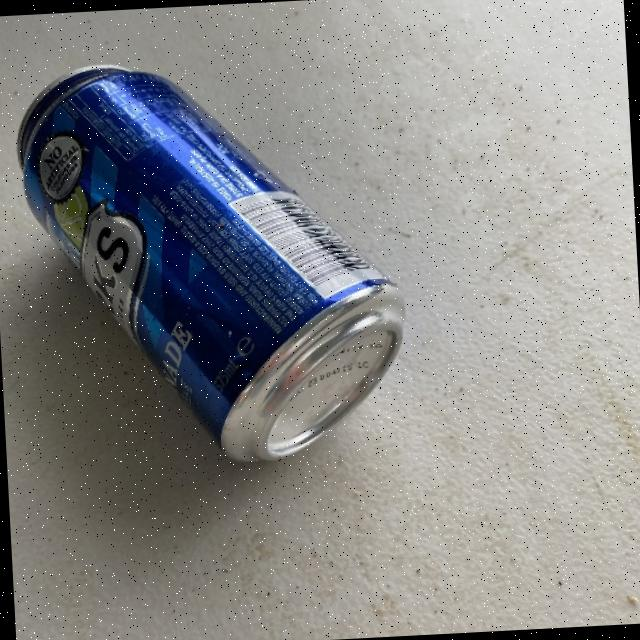metal: (11, 48, 413, 476)
